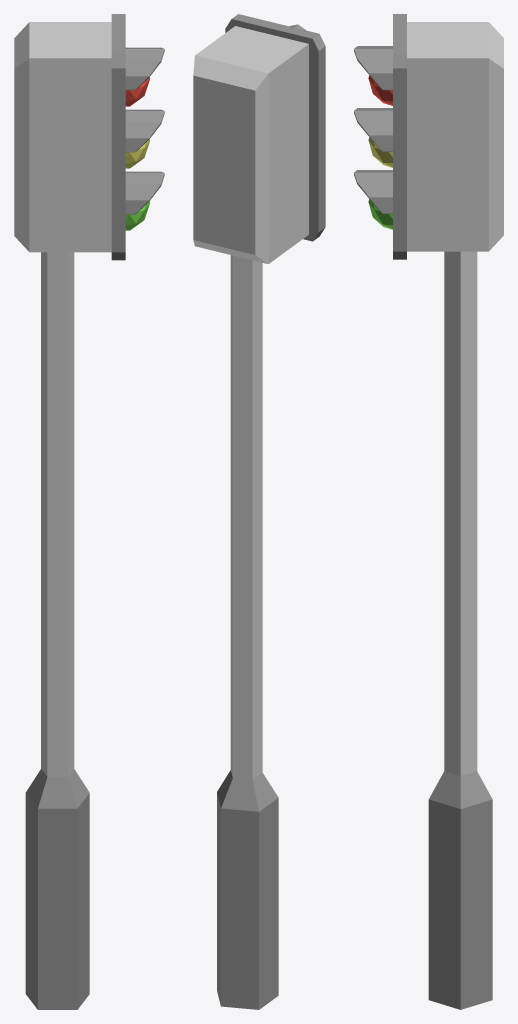
Rendered from trafficLight.glb.
3 views of the same model, side by side, from view 1: azimuth 90°, elevation 25°; view 2: azimuth 150°, elevation 25°; view 3: azimuth 270°, elevation 25° (orthographic).
Parts seen in each view (by area): view 1: TrafficLight; view 2: TrafficLight; view 3: TrafficLight.
Part boxes in pixels (left/top/right/bottom): TrafficLight: left=14, top=14, right=164, bottom=1009; TrafficLight: left=193, top=14, right=325, bottom=1009; TrafficLight: left=354, top=14, right=503, bottom=1009.
Size of the model in its own units: 0.0896 by 0.8709 by 0.123.
